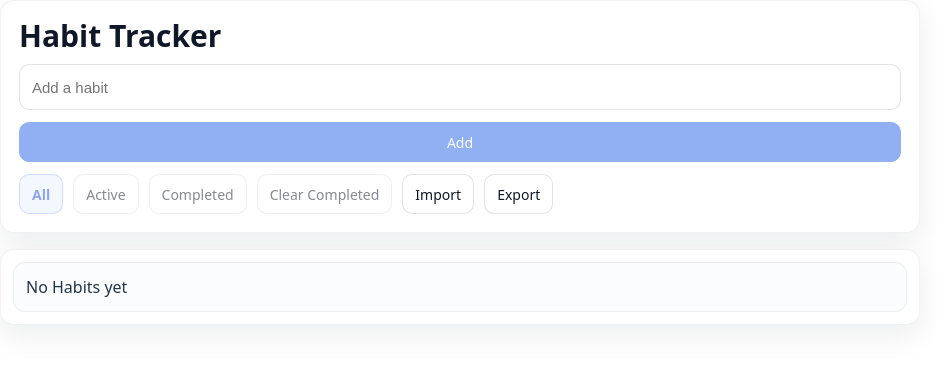
Test: add/Update › if habit is completed then disable the input box
Step 1. Type "complete run" into the field named "new habit" → (460, 87), box 19,64 -> 901,110
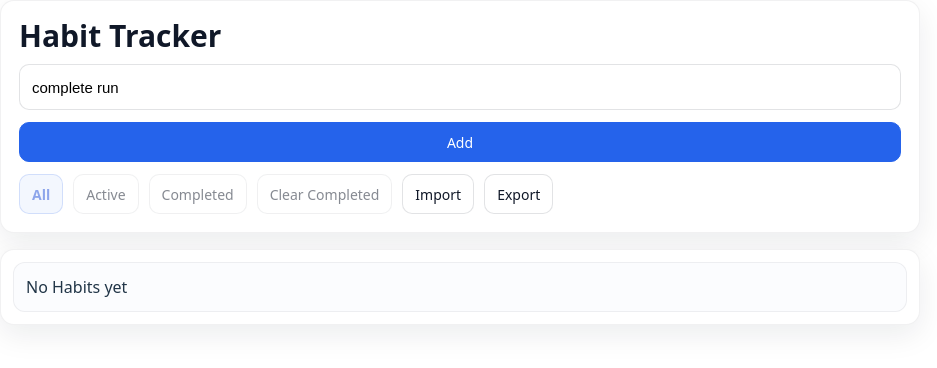
Step 2. Click the button "Add" → (460, 142), box 19,122 -> 901,162
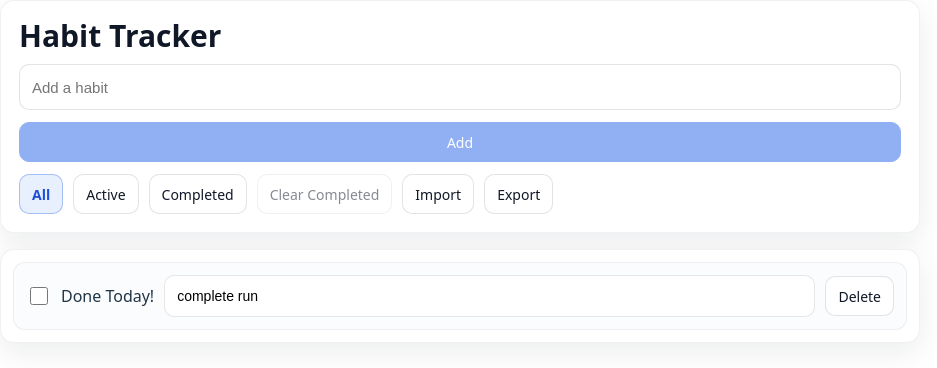
Step 3. Click the checkbox named "Mark complete run done" → (39, 296), box 30,287 -> 48,305
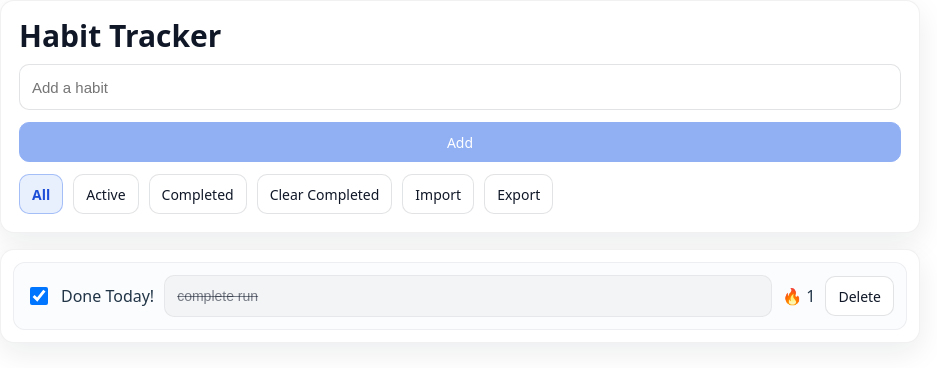
Now the field showing "complete run" is disabled, box 164,275 -> 772,317
